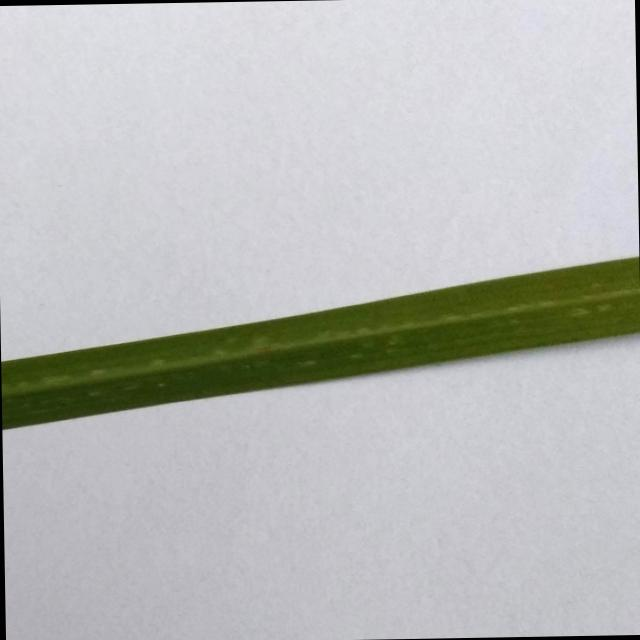Rice_Healthy: (1, 257, 640, 429)
